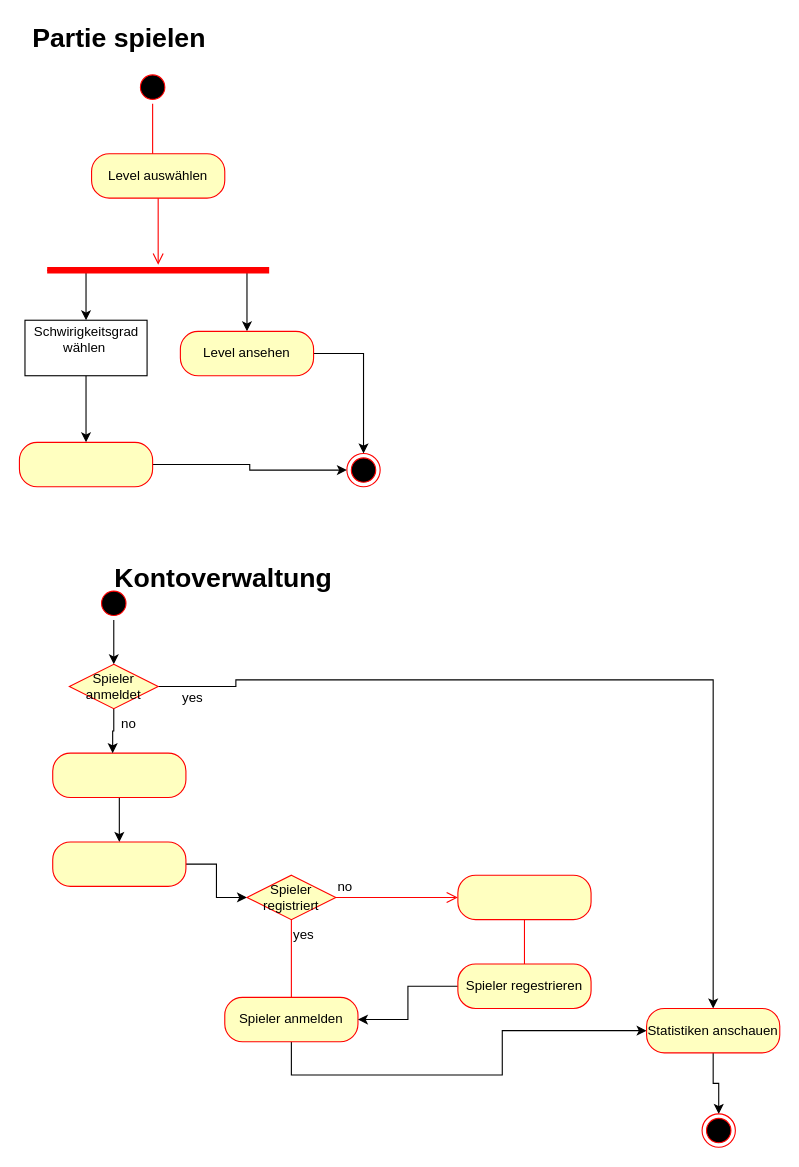
The diagram is 799 pixels wide and 1167 high, and some of its shapes have lost their labels. The box of each missing label's shape, as (x1, y1, x2, y2) in pixels:
Benutzername eingeben: (52, 752, 186, 798)
E-Mail Adresse eingeben: (457, 874, 591, 920)
Passwort eingeben: (52, 841, 186, 886)
Spiel starten: (18, 441, 153, 487)
